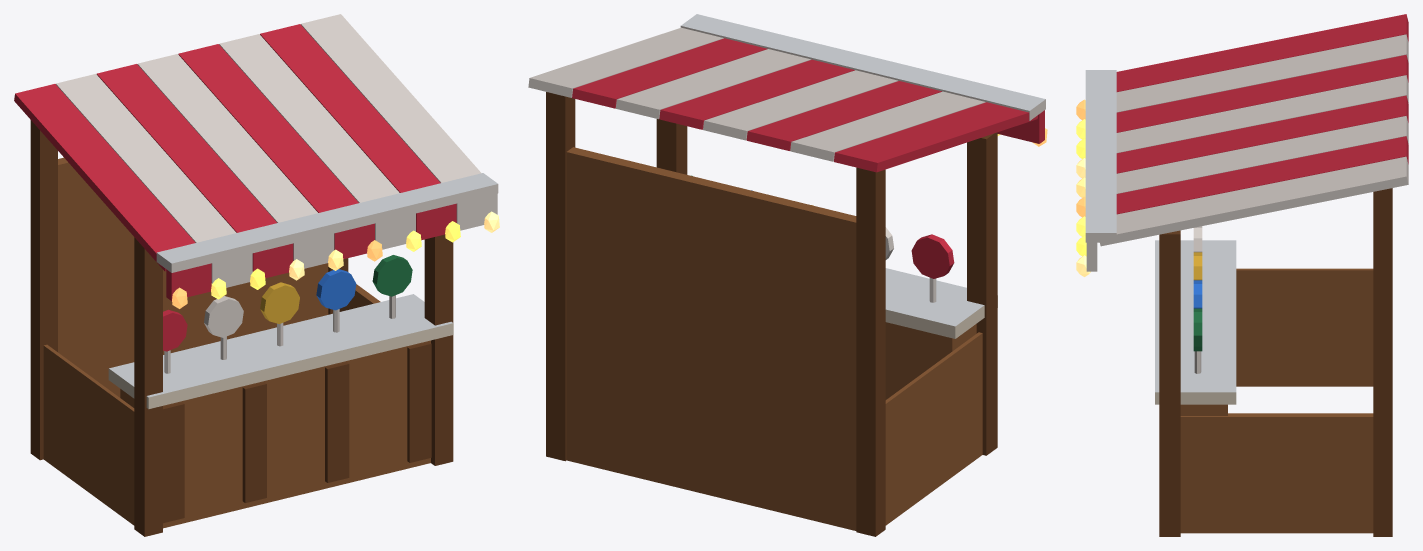
Rendered from Stall_Red.glb.
The picture shows the model from 3 angles, left to right: view 1: azimuth 30°, elevation 25°; view 2: azimuth 150°, elevation 25°; view 3: azimuth 270°, elevation 25°; orthographic projection. The views are drawn at different scales.
Parts seen in each view (by area): view 1: Stall_Red_Stall, Stall_Red_Canopy, Stall_Red_Lights; view 2: Stall_Red_Stall, Stall_Red_Canopy; view 3: Stall_Red_Stall, Stall_Red_Canopy, Stall_Red_Lights.
Part boxes in pixels (x1,y1,x2,y2): Stall_Red_Stall: [30, 120, 453, 536]; Stall_Red_Canopy: [14, 14, 498, 300]; Stall_Red_Lights: [172, 211, 499, 308]; Stall_Red_Stall: [546, 92, 997, 536]; Stall_Red_Canopy: [528, 14, 1045, 172]; Stall_Red_Stall: [1155, 188, 1392, 536]; Stall_Red_Canopy: [1085, 14, 1408, 271]; Stall_Red_Lights: [1076, 99, 1090, 276].
Size of the model in its own units: 9 by 9.4 by 7.76.
